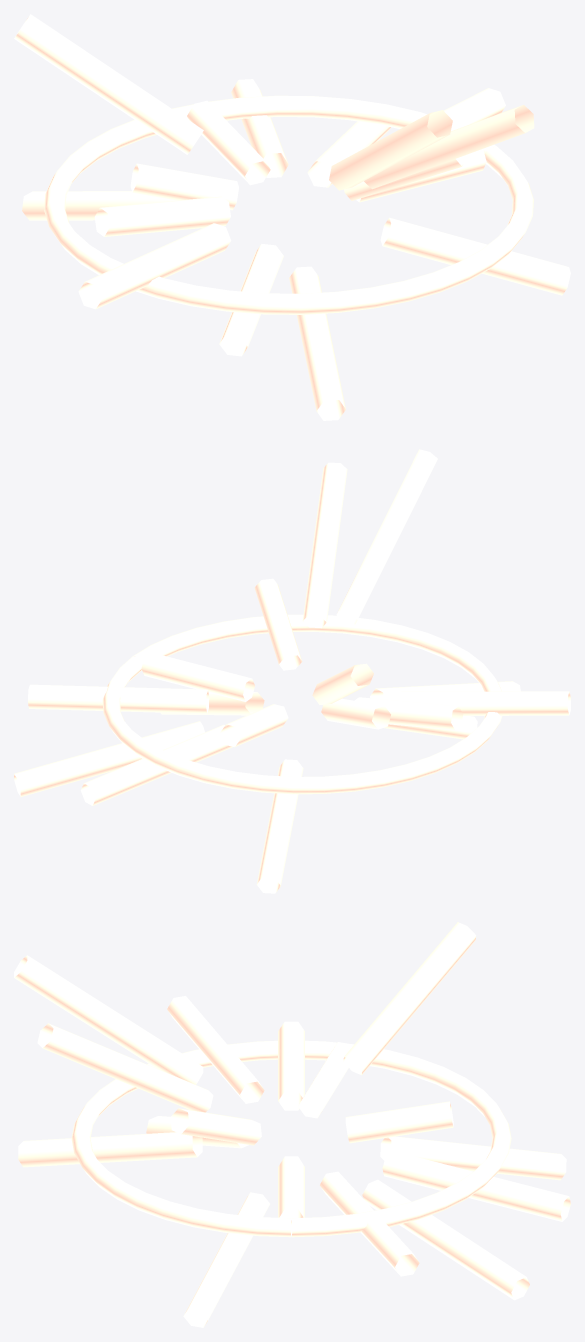
File: damage.physical.glb
The picture shows the model from 3 angles, top to bottom: view 1: azimuth 30°, elevation 25°; view 2: azimuth 150°, elevation 25°; view 3: azimuth 270°, elevation 25°; orthographic projection. The views are drawn at different scales.
Parts seen in each view (by area): view 1: damage.physical.sweep.017; view 2: damage.physical.sweep.017; view 3: damage.physical.sweep.017.
Part boxes in pixels (left/top/right/bottom): damage.physical.sweep.017: left=14, top=14, right=570, bottom=420; damage.physical.sweep.017: left=14, top=449, right=570, bottom=893; damage.physical.sweep.017: left=14, top=922, right=570, bottom=1327.
Bounding box in the file's own units: 1.46 × 0.7864 × 1.46.
